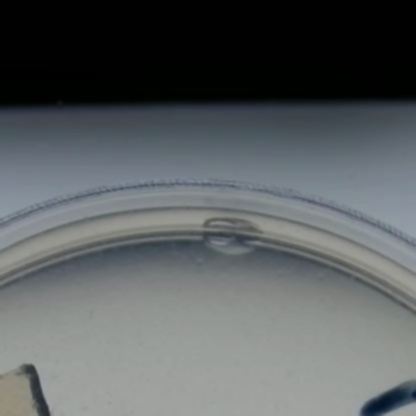worm: (81, 308, 101, 321)
